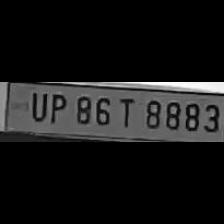3: (200, 100, 220, 132)
6: (92, 93, 112, 126)
8: (140, 96, 162, 130), (70, 92, 92, 125), (182, 98, 200, 132), (164, 97, 182, 130)
P: (45, 92, 69, 124)
T: (116, 96, 136, 128)
U: (26, 90, 48, 122)
